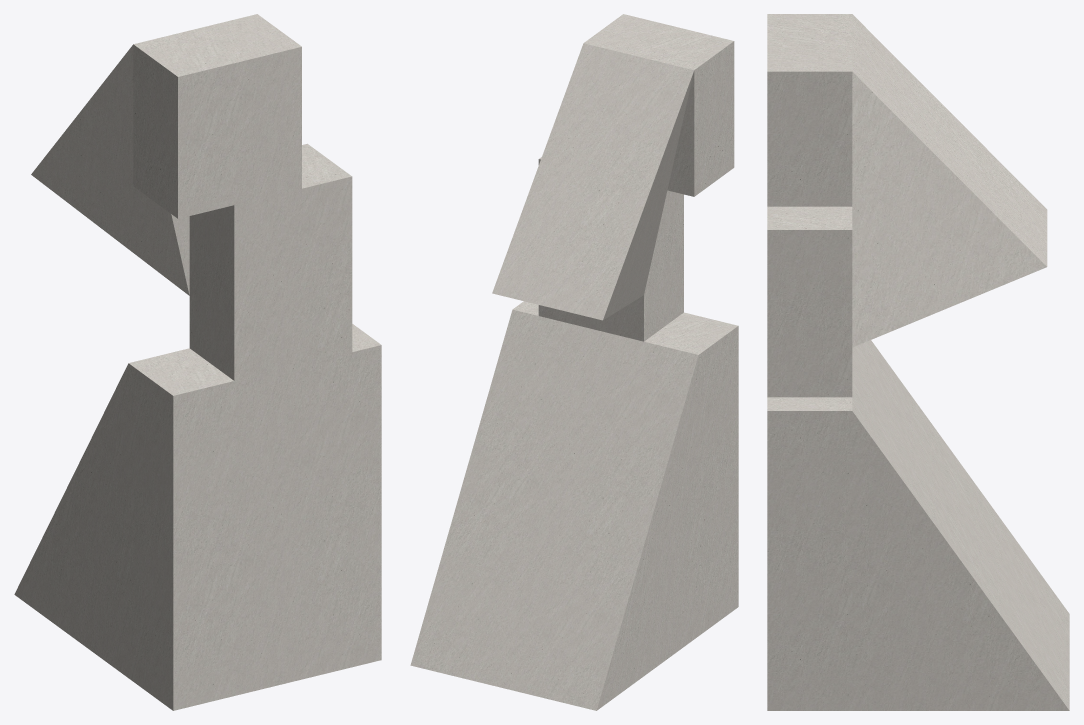
File: knight-white.glb
3 views of the same model, side by side, from view 1: azimuth 30°, elevation 25°; view 2: azimuth 150°, elevation 25°; view 3: azimuth 270°, elevation 25° (orthographic). The views are drawn at different scales.
Parts seen in each view (by area): view 1: jezdec_bila; view 2: jezdec_bila; view 3: jezdec_bila.
Boxes of the visible parts, bbox=[...] form: jezdec_bila: bbox=[14, 14, 381, 710]; jezdec_bila: bbox=[410, 14, 738, 710]; jezdec_bila: bbox=[767, 14, 1069, 710].
Size of the model in its own units: 0.4516 by 1.31 by 0.5964.
1 material, 1 textured.
